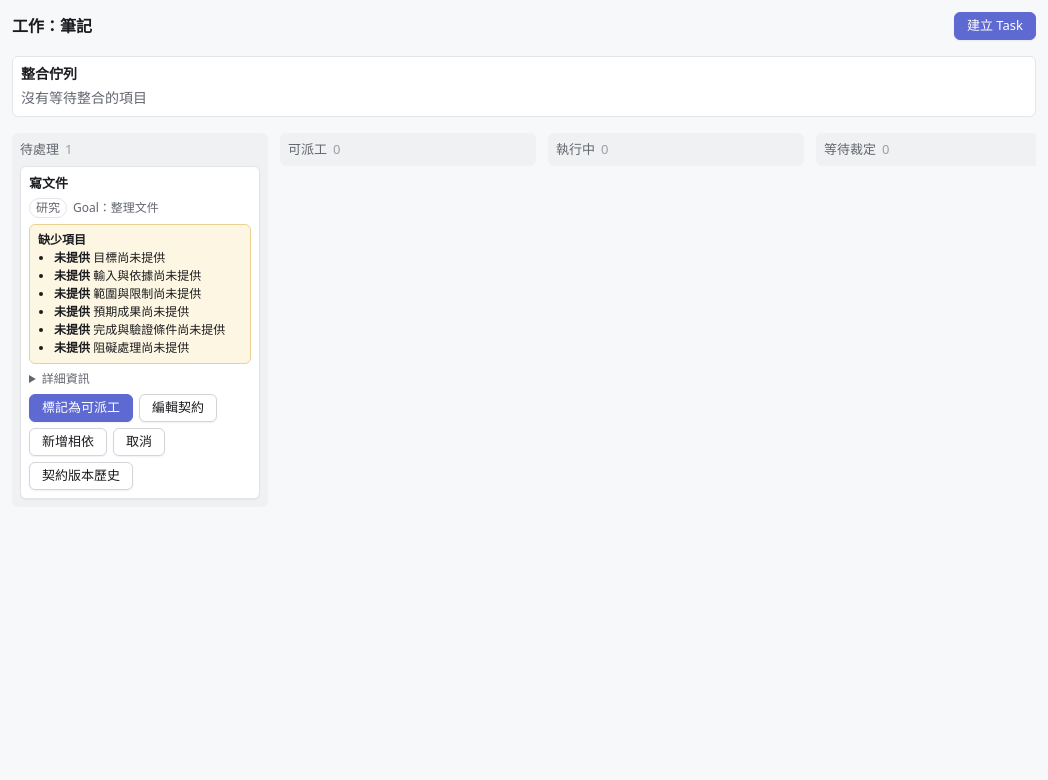
Test: 工作面板 › 契約版本號顯示在卡片上，展開可看每個版本的時間與說明
Expected: the heading "工作：筆記" is shown, [12, 16, 92, 36]
Click the button "契約版本歷史" at (81, 476), box [29, 462, 133, 490]
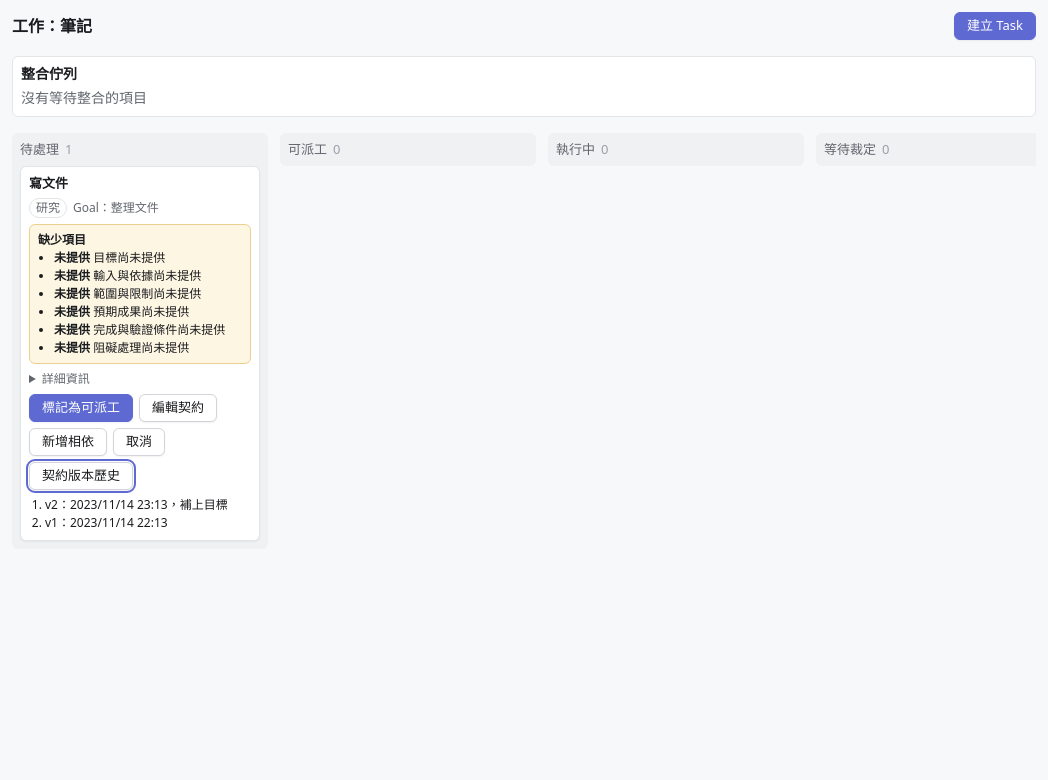
Expected: the list item "v2：2023/11/14 23:13，補上目標" is shown, [45, 496, 251, 514]
Expected: the list item "v1：2023/11/14 22:13" is shown, [45, 514, 168, 531]
